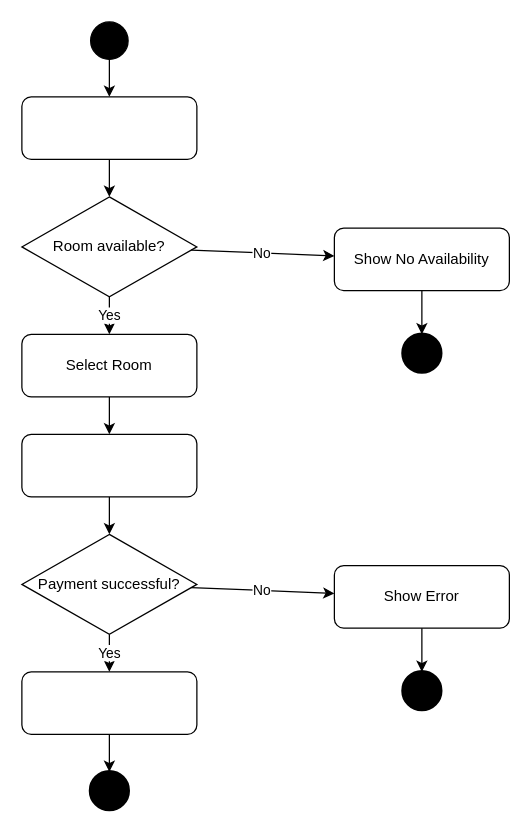
This 531x833 diagram has some shape labels left out. Each missing label, with the box of its shape:
Enter Payment Info: (21, 433, 197, 497)
Generate Confirmation: (21, 671, 197, 734)
Search Rooms: (21, 96, 197, 159)
